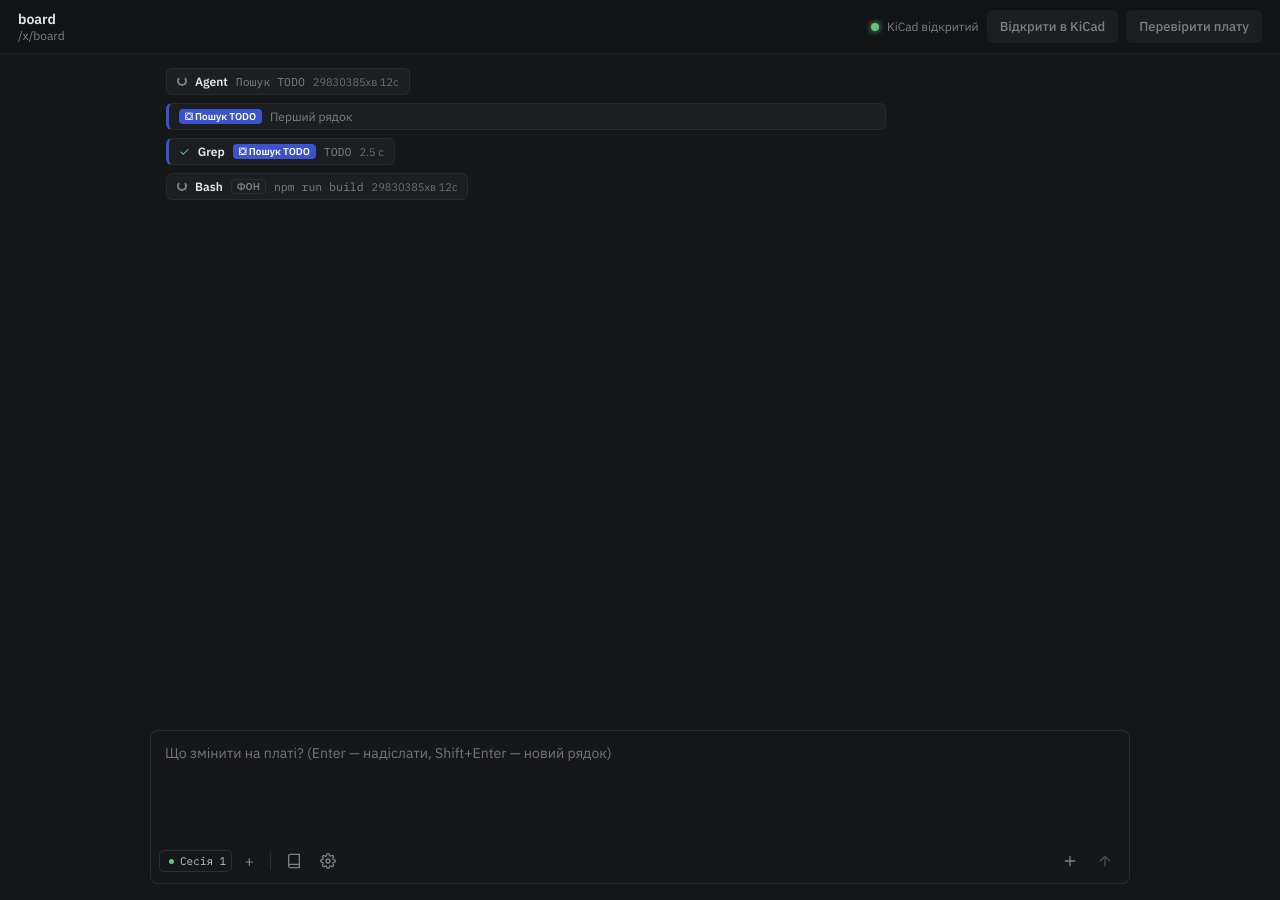
ChatView › renders subagent entries with a coloured badge, collapsed narration, and the «фон» marker
Expected: the text box with placeholder "Що змінити на платі" is shown, 151,731 -> 1129,841
Expected: the text "⛋ Пошук TODO" is shown 2 times, 179,109 -> 262,124; 233,144 -> 316,159
Step 1. Click the text "Перший рядок" → coordinates (311, 116), box 270,109 -> 352,124
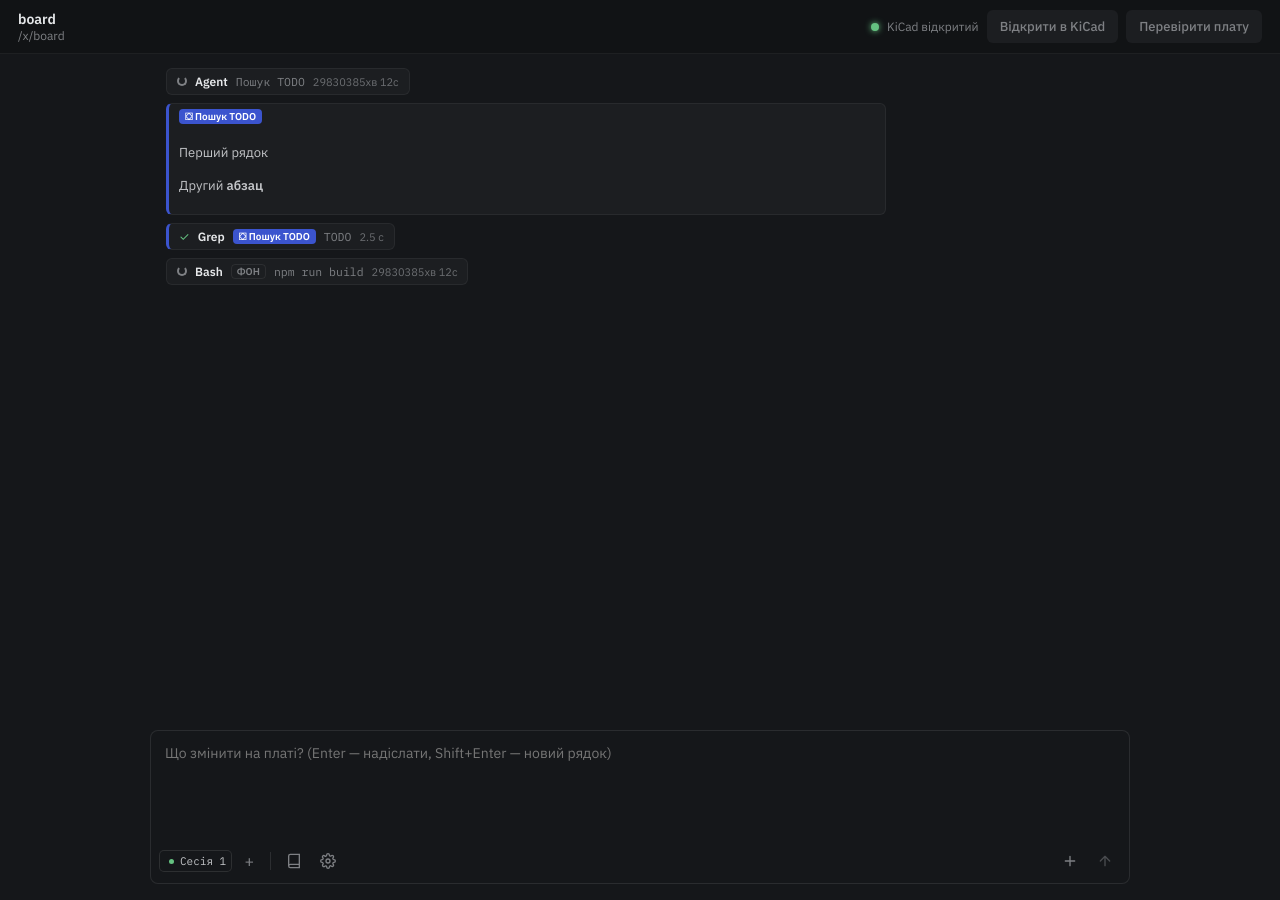
Expected: the text "фон" is shown, 231,264 -> 266,279
Expected: the text "абзац" is shown, 226,177 -> 263,194
